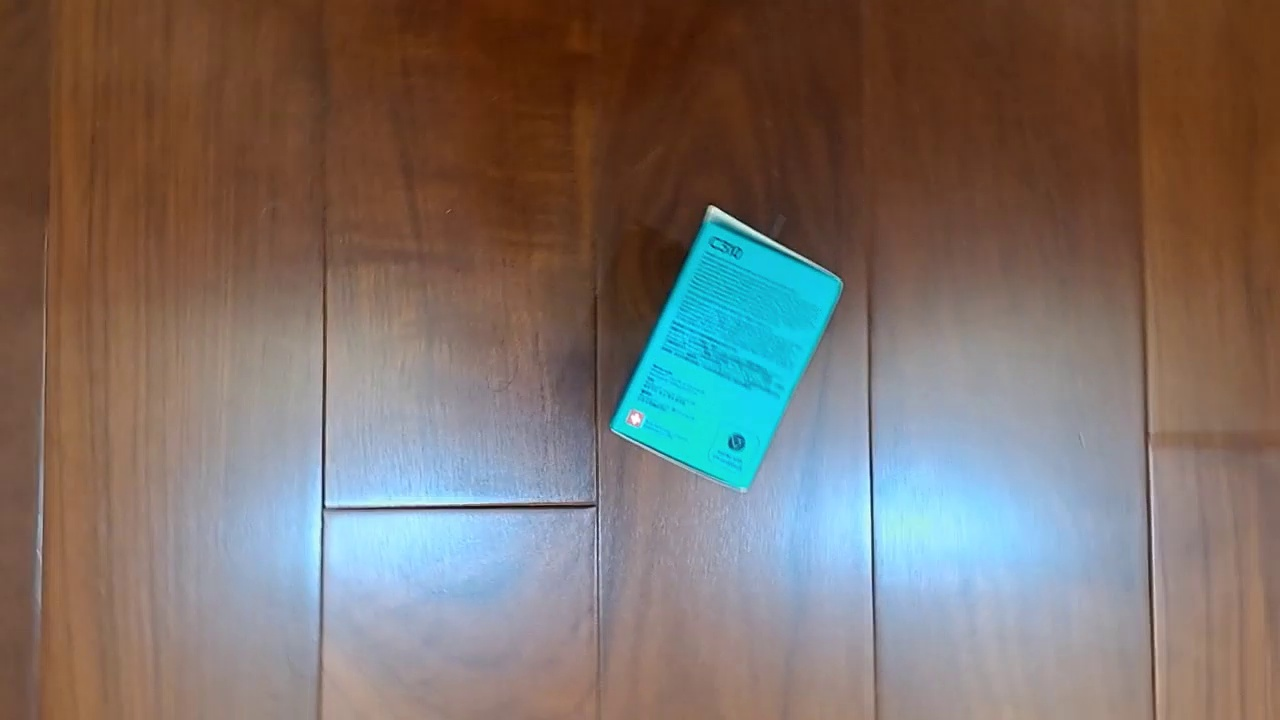webcam: (606, 202, 846, 497)
